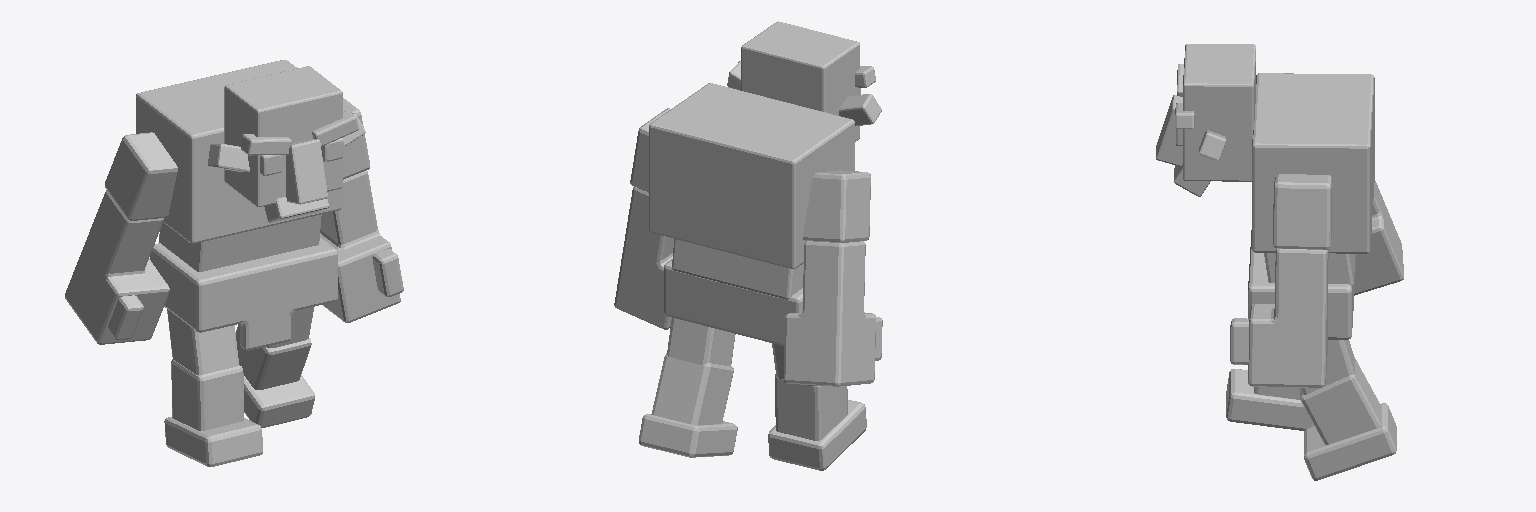
File: Giant.obj
3 views of the same model, side by side, from view 1: azimuth 30°, elevation 25°; view 2: azimuth 150°, elevation 25°; view 3: azimuth 270°, elevation 25° (orthographic).
Parts seen in each view (by area): view 1: Giant_Cube.196; view 2: Giant_Cube.196; view 3: Giant_Cube.196.
Boxes of the visible parts, x1,y1,x2,y2 form: Giant_Cube.196: [65, 60, 403, 466]; Giant_Cube.196: [614, 21, 882, 470]; Giant_Cube.196: [1156, 44, 1403, 480].
Bounding box in the file's own units: 2.88 × 3.96 × 2.34.